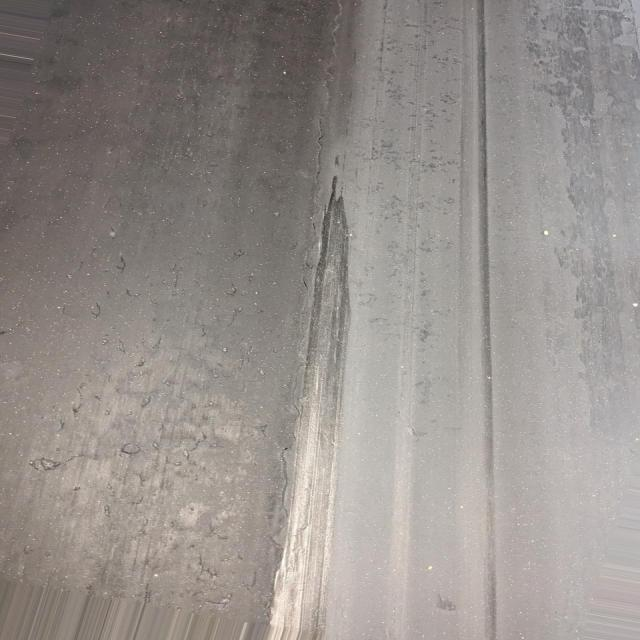Wear: (273, 175, 351, 618)
